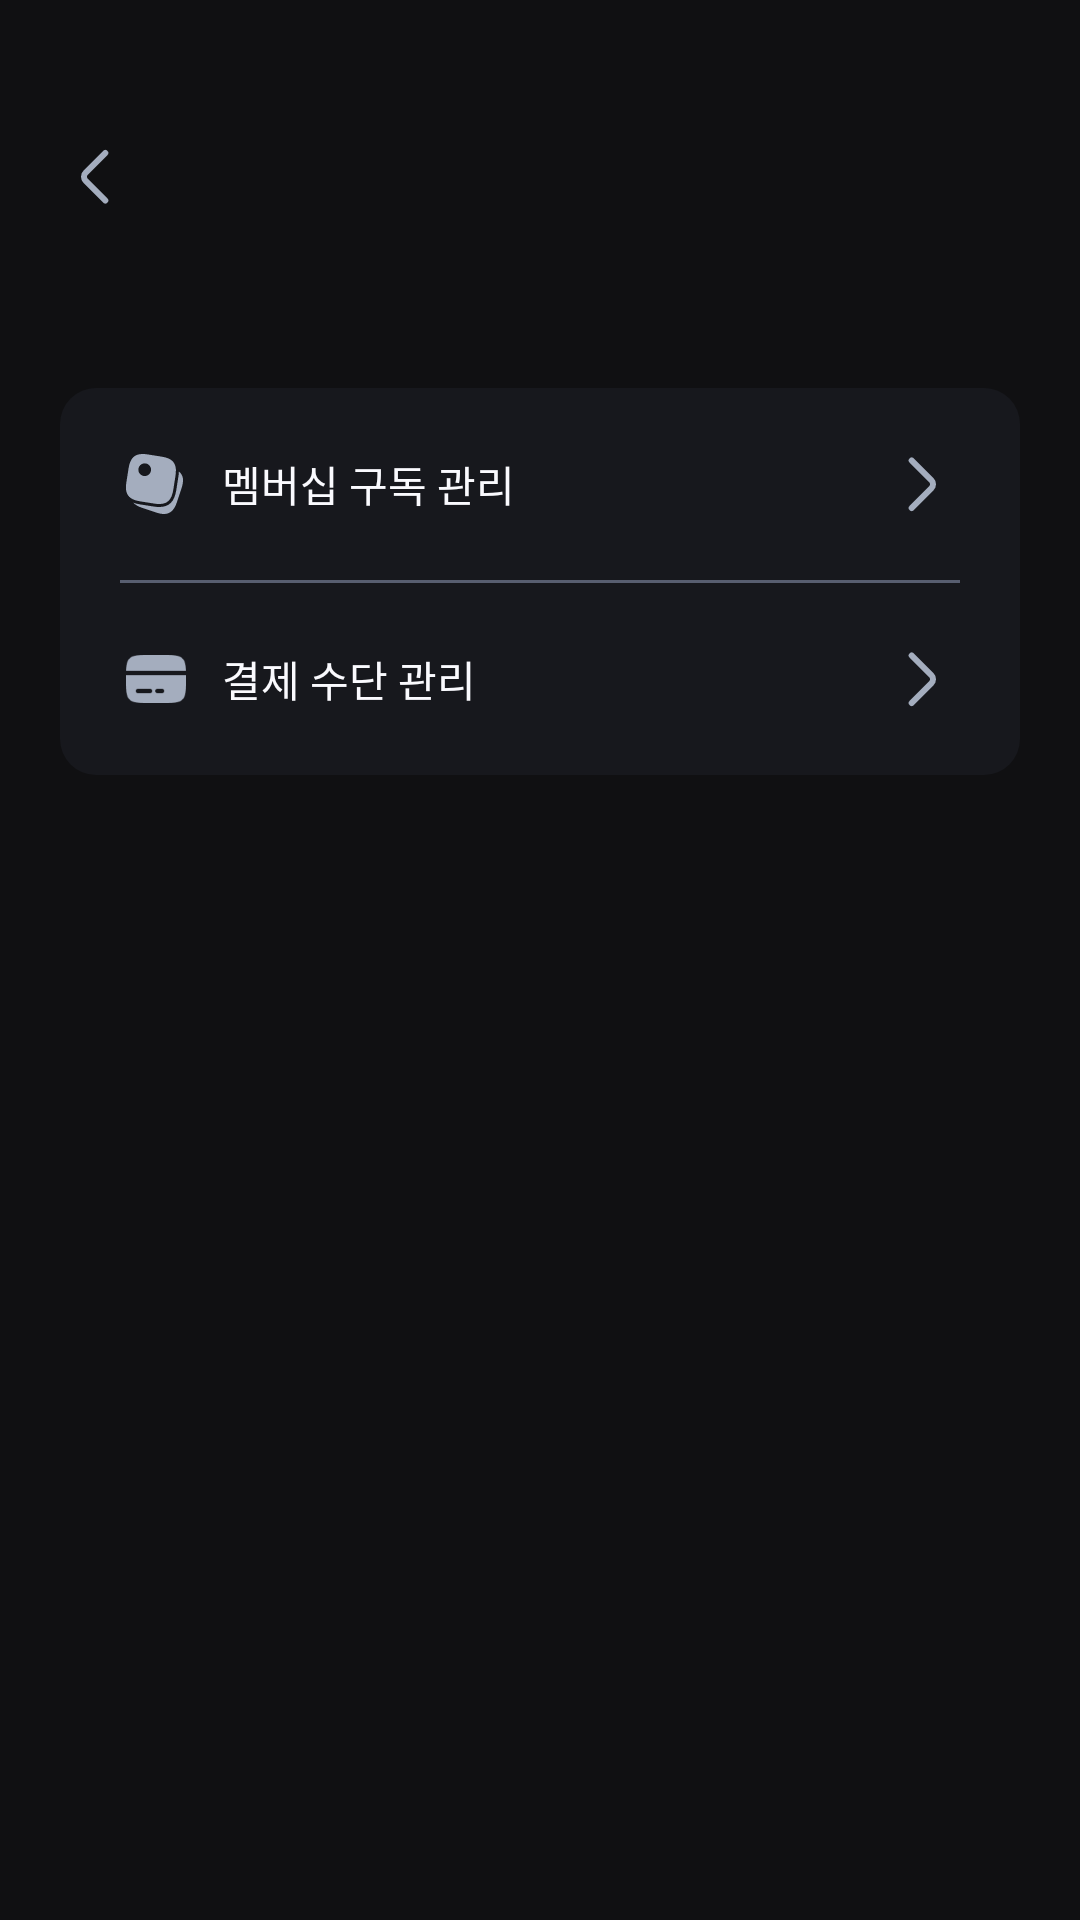

Screen size 1080 x 1920. Icon name, then its center in pixels as [x,y]:
arrow left: [95,177]
arrow right: [922,484], [922,679]
card: [156,679]
